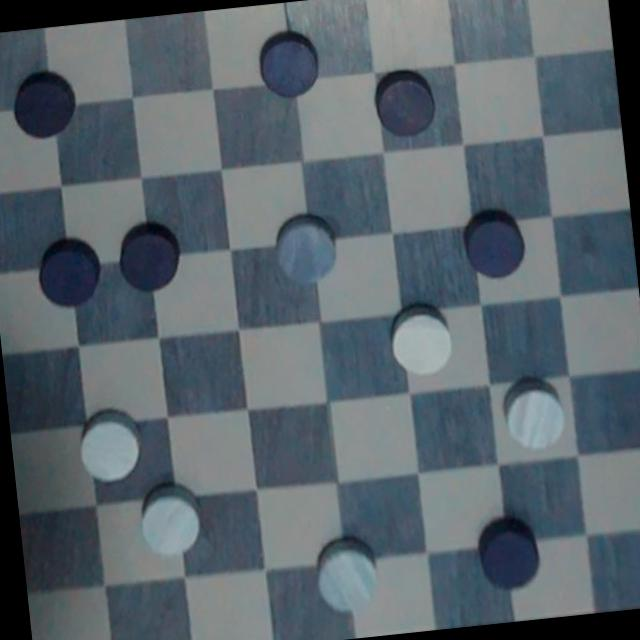BOARD: (0, 0, 640, 640)
black: (108, 213, 198, 299), (472, 509, 548, 599), (27, 228, 108, 312), (456, 201, 534, 285), (365, 61, 442, 136), (252, 26, 326, 102), (9, 64, 82, 140)
white: (309, 529, 388, 618), (265, 206, 345, 291), (497, 369, 575, 455), (74, 404, 150, 484), (384, 298, 456, 378), (136, 480, 207, 558)
